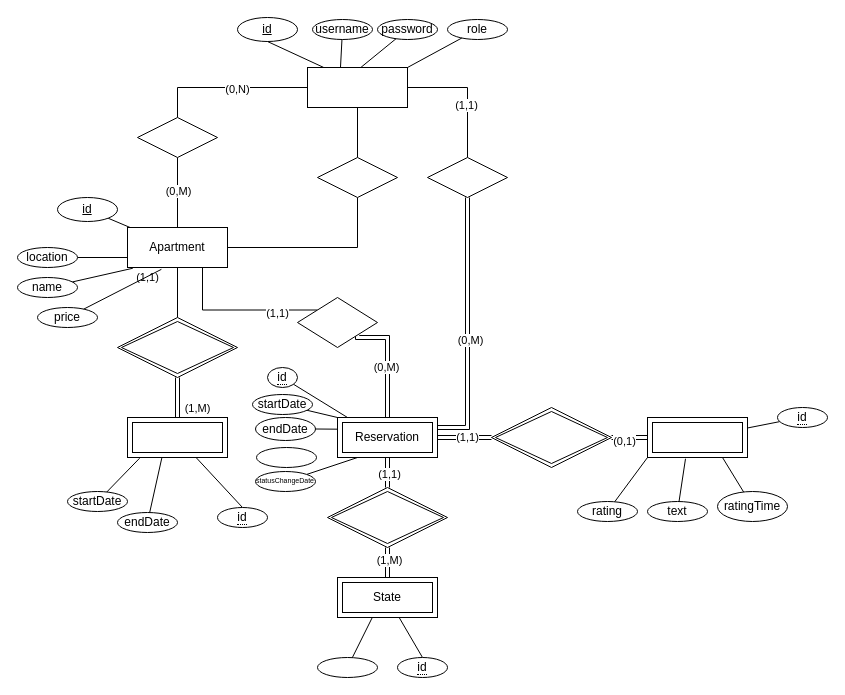
Some shapes in this 845 by 695 pixel diagram are drawn without their labels. Here are the shapes that lost their labels. From the top down, the centre of each, then its label:
(357,87): User
(177,137): manages
(357,177): possesses
(467,177): buys
(337,322): got
(177,347): owns
(177,437): Period
(286,457): currentStatus
(551,437): qualifies
(697,437): Review
(387,517): Relationship
(347,667): date
